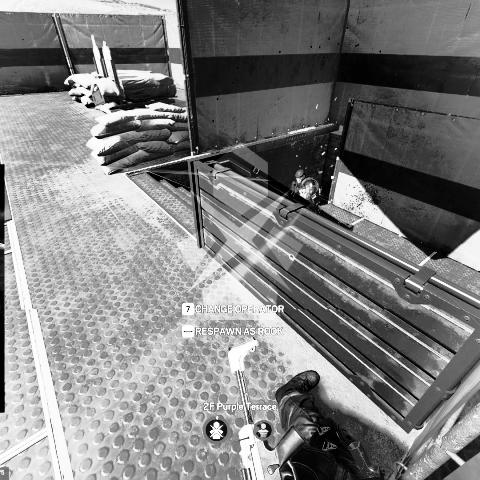Character: (269, 368, 387, 480), (290, 168, 321, 210)
Head: (294, 170, 306, 184)
